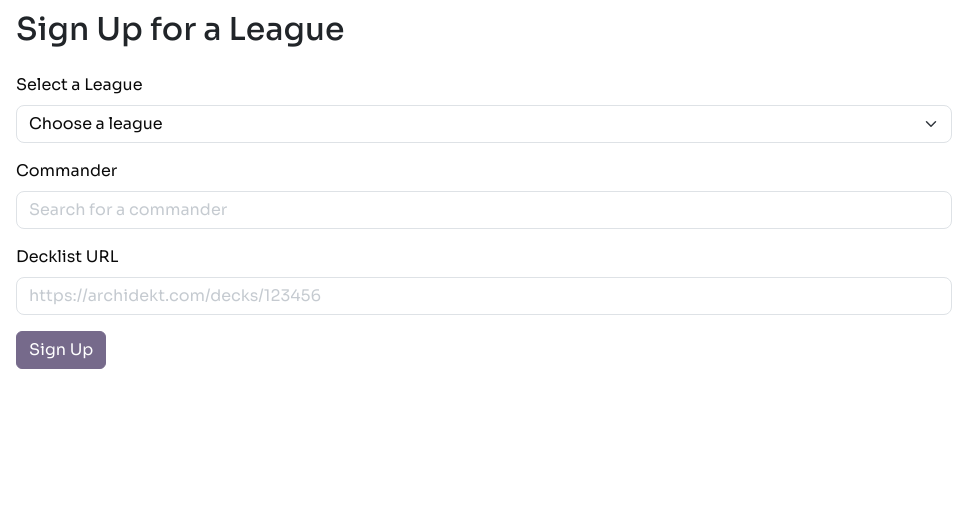
Scenario: SignUp › Commander autocomplete › should select commander when suggestion is clicked
The width and height of the screenshot is (969, 509).
Type "Ken" into the field labelled "Commander".
click(484, 210); type("Ken")  # box [16,191,952,229]
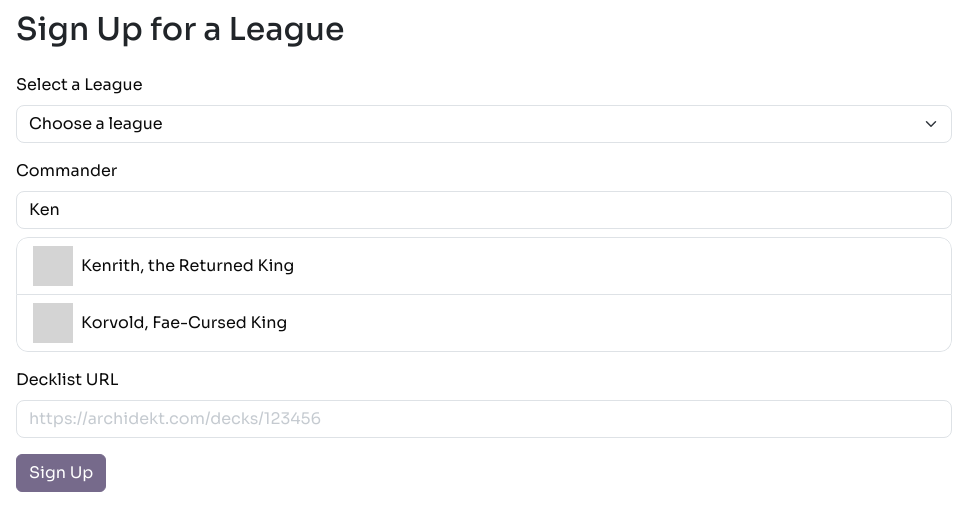
Check: the list item "Kenrith, the Returned King" is shown
Click the list item "Kenrith, the Returned King".
click(484, 266)  # box [16,237,952,295]
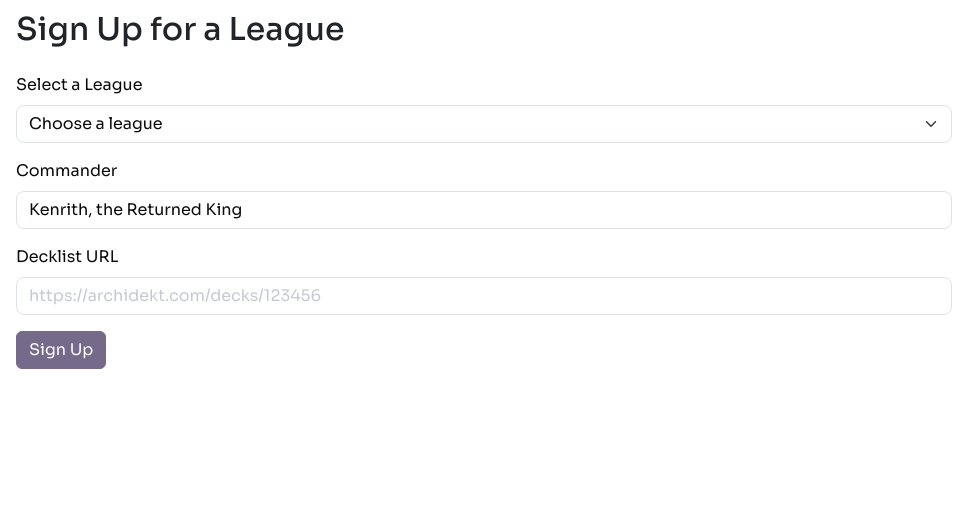
Check: the field labelled "Commander" holds "Kenrith, the Returned King", box [16,191,952,229]
